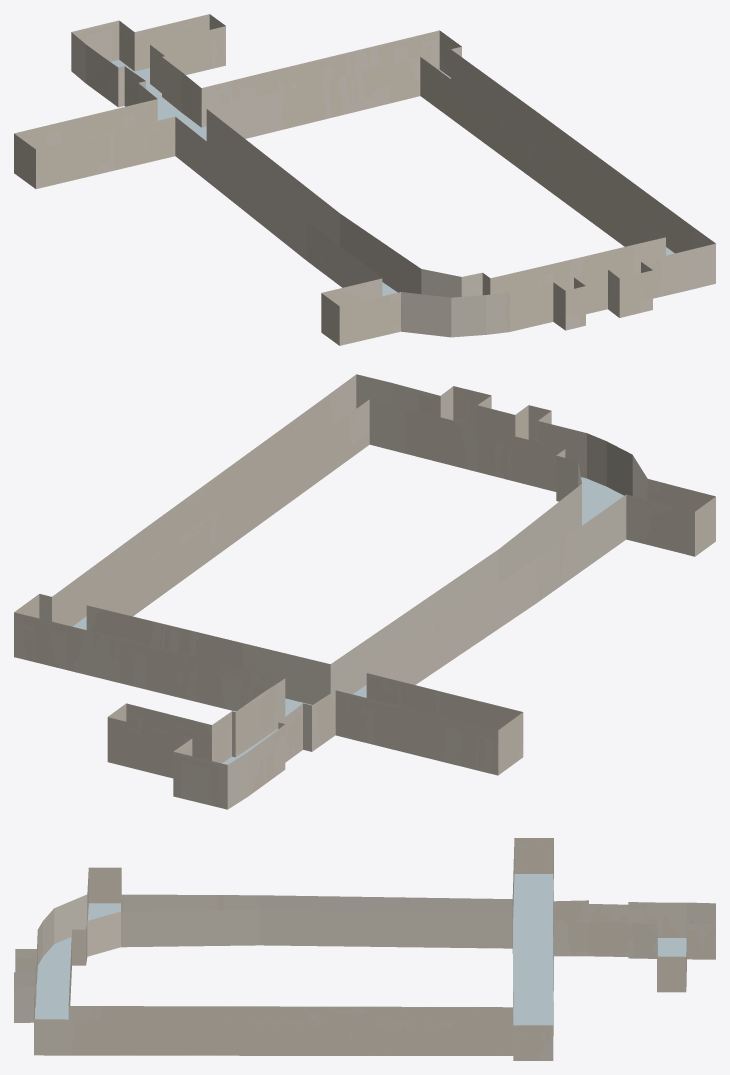
Rendered from corridor.glb.
3 views of the same model, one above another, from view 1: azimuth 30°, elevation 25°; view 2: azimuth 150°, elevation 25°; view 3: azimuth 270°, elevation 25° (orthographic). The views are drawn at different scales.
Visible parts, largest first — view 1: Outer 068 - Estimated walls, Outer 016 - Walls, Outer 014 - Walls, Outer 065 - Walls, Outer 015 - Walls, Courtyard 024 - Walls, Outer 067 - Estimated walls, Courtyard 027 - Estimated walls, Outer 033 - Walls, Outer 056 - Estimated walls, Connected floor, Courtyard 018 - Walls (+65 smaller); view 2: Outer 019 - Walls, Courtyard 027 - Estimated walls, Outer 020 - Walls, Courtyard 014 - Walls, Outer 041 - Walls, Outer 031 - Walls, Courtyard 012 - Walls, Outer 028 - Estimated walls, Courtyard 015 - Estimated walls, Outer 042 - Walls, Connected floor, Outer 043 - Estimated walls (+73 smaller); view 3: Connected floor, Outer 053 - Walls, Outer 052 - Walls, Outer 054 - Walls, Outer 050 - Walls, Courtyard 002 - Estimated walls, Courtyard 005 - Estimated walls, Courtyard 004 - Estimated walls, Courtyard 001 - Estimated walls, Outer 051 - Walls, Courtyard 003 - Estimated walls, Outer 047 - Walls (+44 smaller).
Part boxes in pixels (<box>): Outer 068 - Estimated walls: <box>401,292,451,337</box>; Outer 016 - Walls: <box>36,139,82,187</box>; Outer 014 - Walls: <box>129,119,175,165</box>; Outer 065 - Walls: <box>509,282,553,330</box>; Outer 015 - Walls: <box>82,127,128,177</box>; Courtyard 024 - Walls: <box>367,61,418,106</box>; Outer 067 - Estimated walls: <box>451,295,486,337</box>; Courtyard 027 - Estimated walls: <box>207,96,260,138</box>; Outer 033 - Walls: <box>188,28,224,73</box>; Outer 056 - Estimated walls: <box>685,243,715,291</box>; Connected floor: <box>110,60,674,296</box>; Courtyard 018 - Walls: <box>574,170,604,231</box>; Outer 019 - Walls: <box>389,706,443,761</box>; Courtyard 027 - Estimated walls: <box>269,649,330,704</box>; Outer 020 - Walls: <box>335,690,389,747</box>; Courtyard 014 - Walls: <box>418,412,467,468</box>; Outer 041 - Walls: <box>168,652,220,705</box>; Outer 031 - Walls: <box>107,717,149,772</box>; Courtyard 012 - Walls: <box>516,437,563,491</box>; Outer 028 - Estimated walls: <box>173,751,227,809</box>; Courtyard 015 - Estimated walls: <box>369,399,417,456</box>; Outer 042 - Walls: <box>118,640,168,694</box>; Connected floor: <box>73,477,623,764</box>; Outer 043 - Estimated walls: <box>65,625,116,682</box>; Connected floor: <box>35,874,686,1025</box>; Outer 053 - Walls: <box>143,1020,198,1055</box>; Outer 052 - Walls: <box>198,1020,253,1055</box>; Outer 054 - Walls: <box>89,1020,143,1055</box>; Outer 050 - Walls: <box>308,1020,362,1055</box>; Courtyard 002 - Estimated walls: <box>411,911,462,947</box>; Courtyard 005 - Estimated walls: <box>259,909,310,945</box>; Courtyard 004 - Estimated walls: <box>310,910,360,946</box>; Courtyard 001 - Estimated walls: <box>462,912,512,948</box>; Outer 051 - Walls: <box>253,1020,307,1055</box>; Courtyard 003 - Estimated walls: <box>361,911,411,947</box>; Outer 047 - Walls: <box>463,1020,513,1055</box>.
Bounding box in the file's own units: 30.01 × 2.75 × 47.64.
